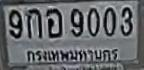0: (102, 6, 116, 36), (87, 7, 100, 36)
3: (120, 6, 133, 36)
9: (8, 9, 22, 38), (70, 7, 83, 36)
A01: (25, 8, 42, 39)
A43: (45, 8, 63, 38)
BKK: (25, 46, 119, 63)
